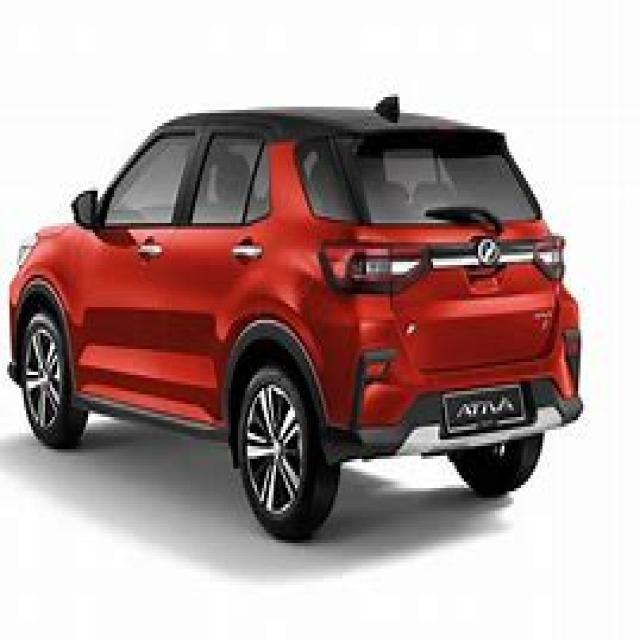PeroduaAtiva: (5, 91, 583, 543)
